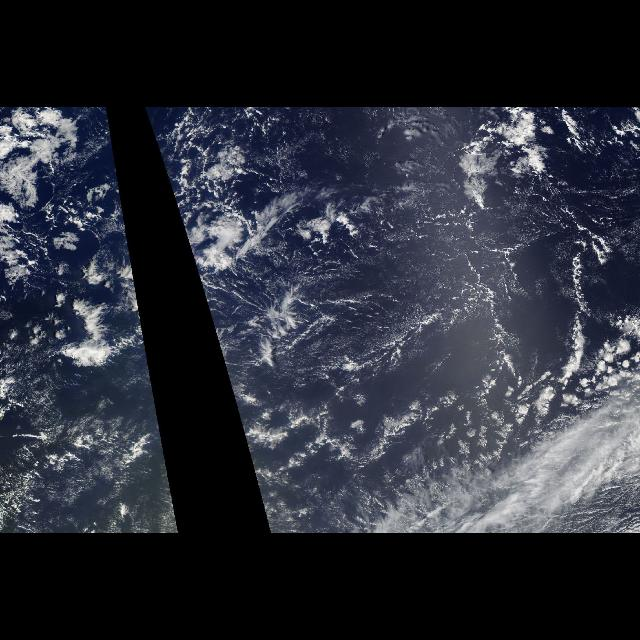Gravel: (143, 110, 634, 494), (2, 110, 134, 274)
Sugar: (314, 255, 471, 322)
